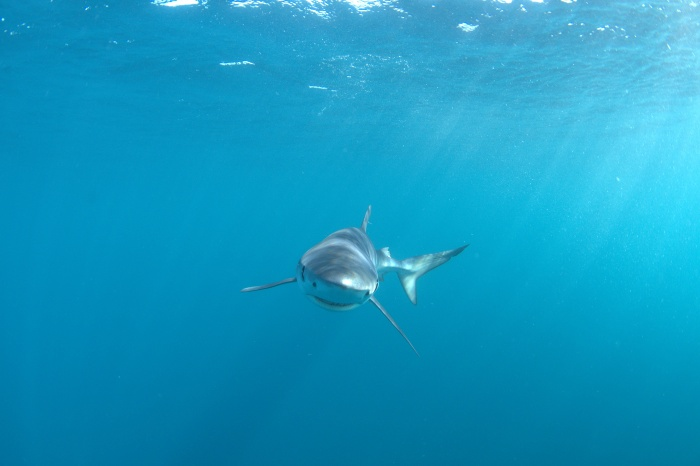Azul: (234, 187, 484, 370)
